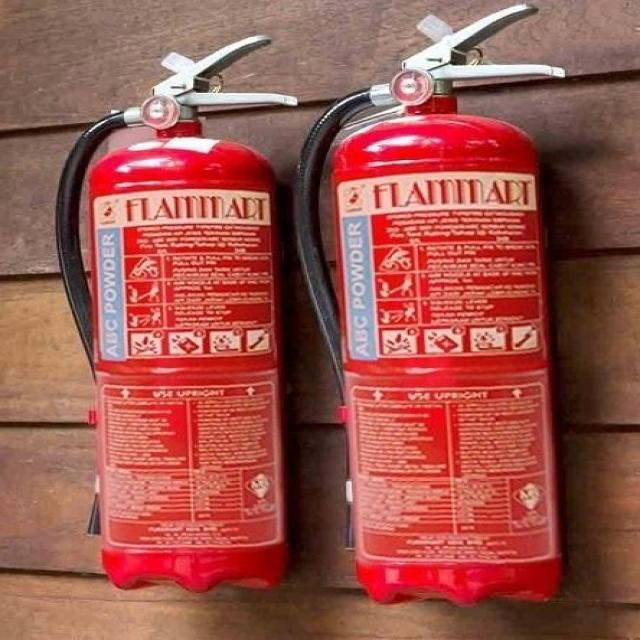fire_extinguisher: (282, 0, 577, 609), (45, 27, 301, 598)
